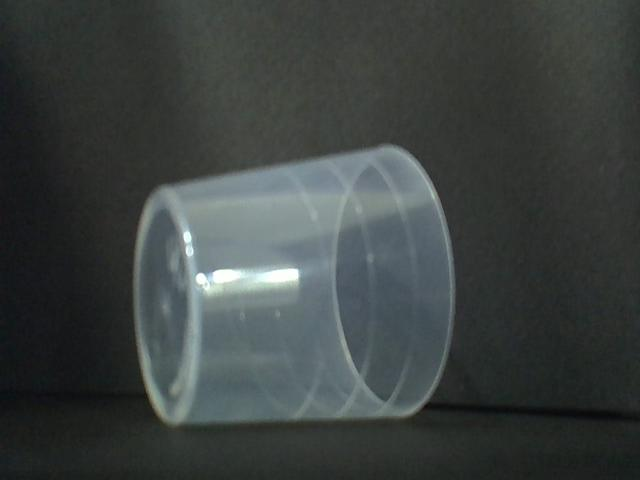cup: (125, 137, 462, 434)
